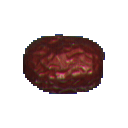gd: (13, 23, 122, 112)
